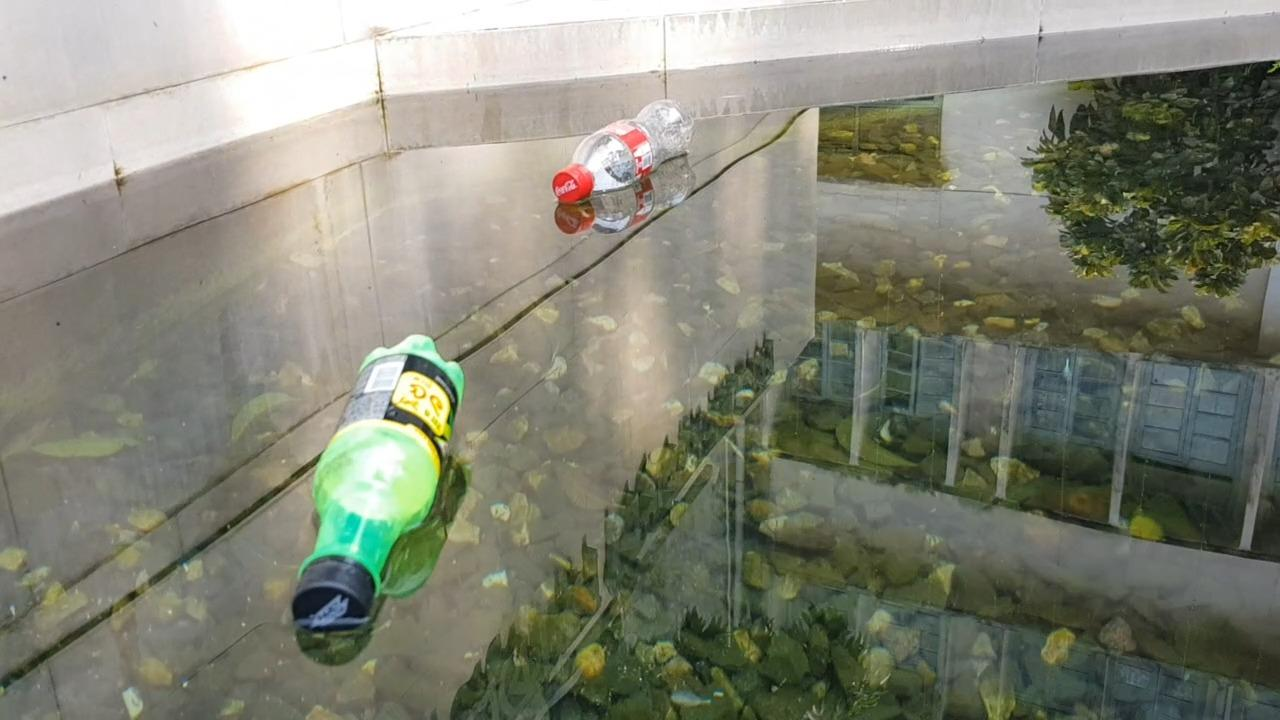trash_plastic: (301, 336, 467, 613), (562, 99, 693, 204)
